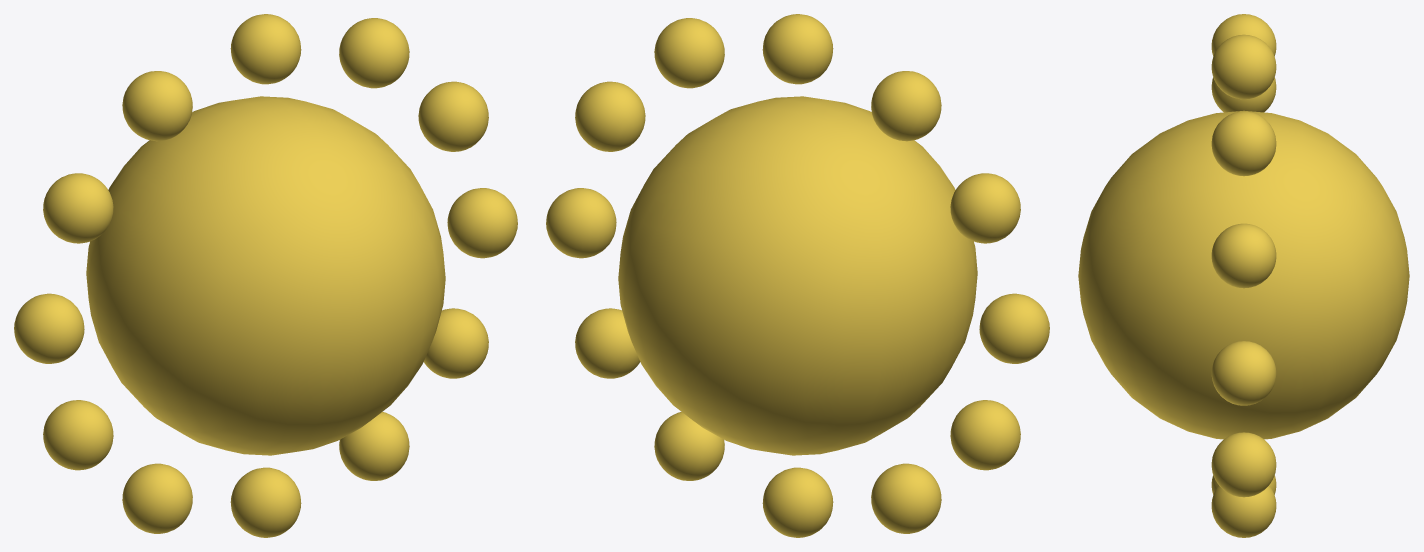
The model's file is sun2.gltf.
3 renders of one model, left to right at view 1: azimuth 30°, elevation 25°; view 2: azimuth 150°, elevation 25°; view 3: azimuth 270°, elevation 25°, orthographic. The views are drawn at different scales.
Parts seen in each view (by area): view 1: Roundcube, Roundcube.005, Roundcube.013, Roundcube.037, Roundcube.009, Roundcube.021, Roundcube.045, Roundcube.017, Roundcube.041, Roundcube.001, Roundcube.025, Roundcube.029 (+1 smaller); view 2: Roundcube, Roundcube.005, Roundcube.013, Roundcube.037, Roundcube.009, Roundcube.045, Roundcube.021, Roundcube.017, Roundcube.041, Roundcube.001, Roundcube.025, Roundcube.029 (+1 smaller); view 3: Roundcube, Roundcube.045, Roundcube.001, Roundcube.033, Roundcube.037, Roundcube.041, Roundcube.029, Roundcube.005, Roundcube.009.
Boxes of the visible parts, left/top/right/bottom form: Roundcube: left=86, top=96, right=445, bottom=455; Roundcube.005: left=122, top=71, right=192, bottom=141; Roundcube.013: left=14, top=293, right=84, bottom=363; Roundcube.037: left=447, top=188, right=517, bottom=258; Roundcube.009: left=43, top=173, right=113, bottom=243; Roundcube.021: left=122, top=463, right=192, bottom=533; Roundcube.045: left=339, top=18, right=409, bottom=88; Roundcube.017: left=43, top=400, right=113, bottom=470; Roundcube.041: left=418, top=81, right=488, bottom=151; Roundcube.001: left=230, top=14, right=301, bottom=84; Roundcube.025: left=230, top=467, right=301, bottom=537; Roundcube.029: left=339, top=412, right=409, bottom=480; Roundcube: left=618, top=96, right=977, bottom=455; Roundcube.005: left=871, top=71, right=941, bottom=141; Roundcube.013: left=979, top=293, right=1049, bottom=363; Roundcube.037: left=546, top=188, right=616, bottom=258; Roundcube.009: left=950, top=173, right=1020, bottom=243; Roundcube.045: left=654, top=18, right=724, bottom=88; Roundcube.021: left=871, top=463, right=941, bottom=533; Roundcube.017: left=950, top=400, right=1020, bottom=470; Roundcube.041: left=575, top=81, right=645, bottom=151; Roundcube.001: left=762, top=14, right=833, bottom=84; Roundcube.025: left=762, top=467, right=833, bottom=537; Roundcube.029: left=654, top=412, right=724, bottom=480; Roundcube: left=1078, top=110, right=1409, bottom=439; Roundcube.045: left=1211, top=111, right=1276, bottom=176; Roundcube.001: left=1211, top=34, right=1276, bottom=99; Roundcube.033: left=1211, top=432, right=1276, bottom=497; Roundcube.037: left=1211, top=341, right=1276, bottom=405; Roundcube.041: left=1211, top=223, right=1276, bottom=288; Roundcube.029: left=1211, top=486, right=1276, bottom=537; Roundcube.005: left=1211, top=14, right=1276, bottom=56; Roundcube.009: left=1211, top=77, right=1276, bottom=112.
Size of the model in its own units: 2.28 by 2.28 by 1.44.
